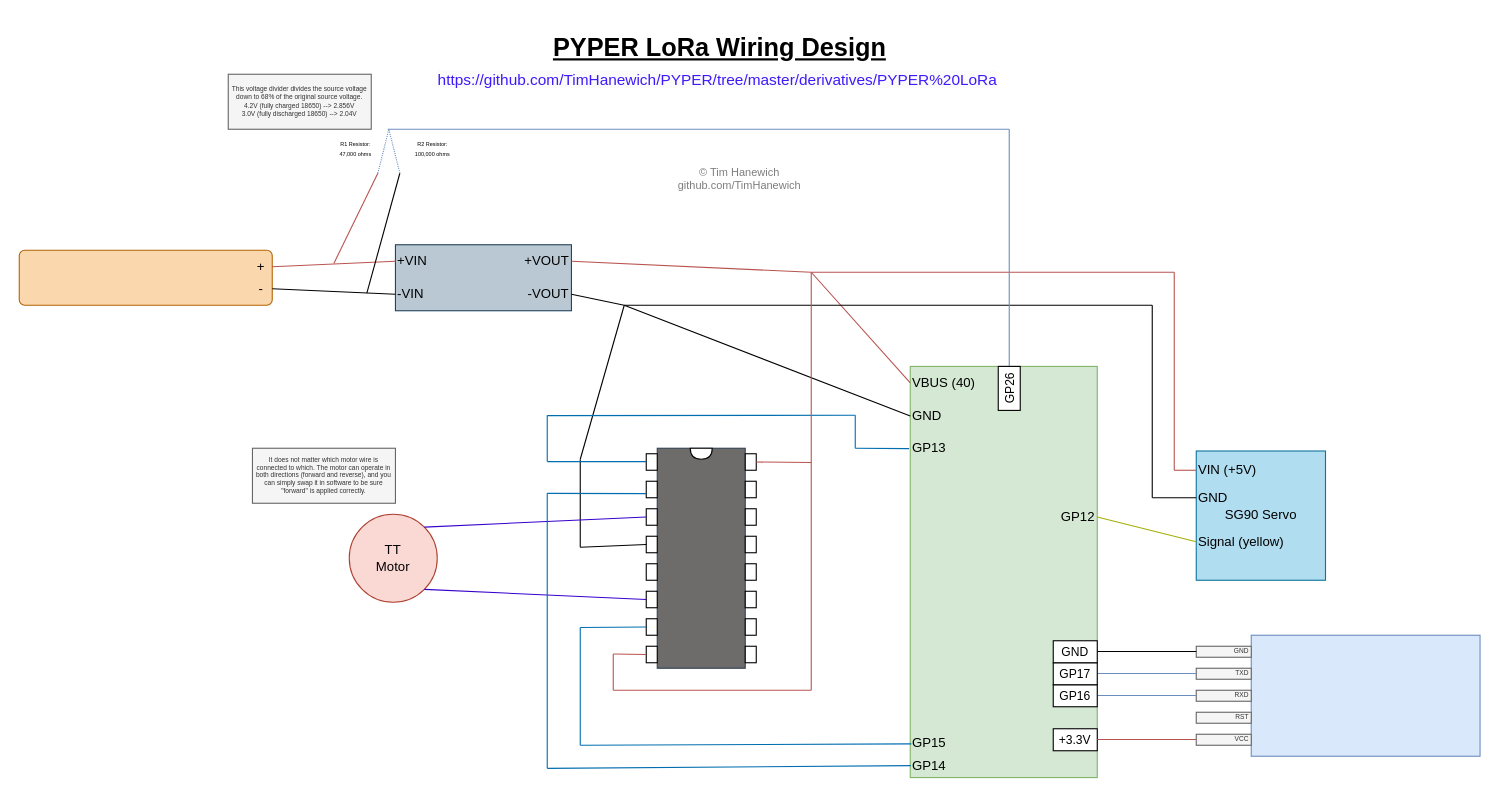
Image size: 1499x801. Some labels were removed from this diagram. Here are the shapes that lost their labels. From the top down, the box of each, then its label:
(18, 249, 272, 305): 18650 Battery
(394, 244, 571, 311): MT3608 to +5V
(656, 447, 745, 668): L293D
(909, 365, 1097, 778): Raspberry Pi Pico
(1250, 634, 1480, 756): REYAX RYLR998
